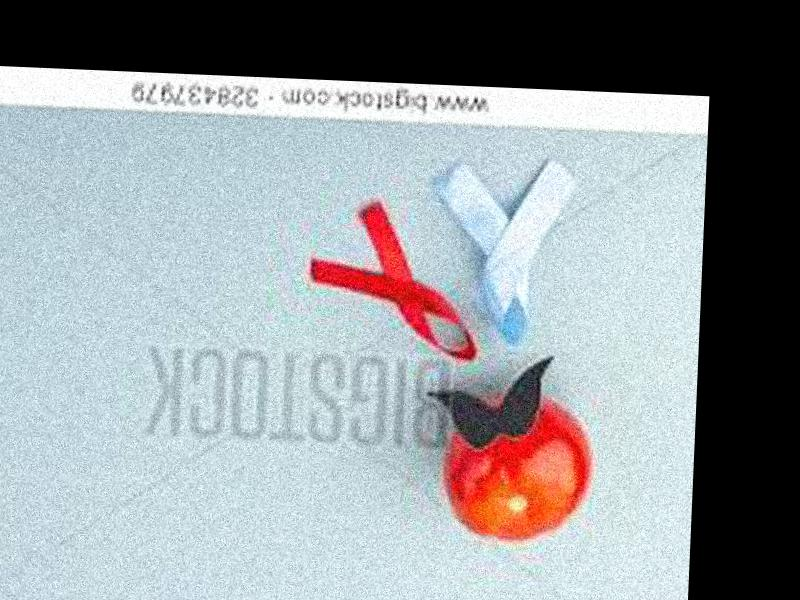Tomato: (440, 392, 593, 545)
